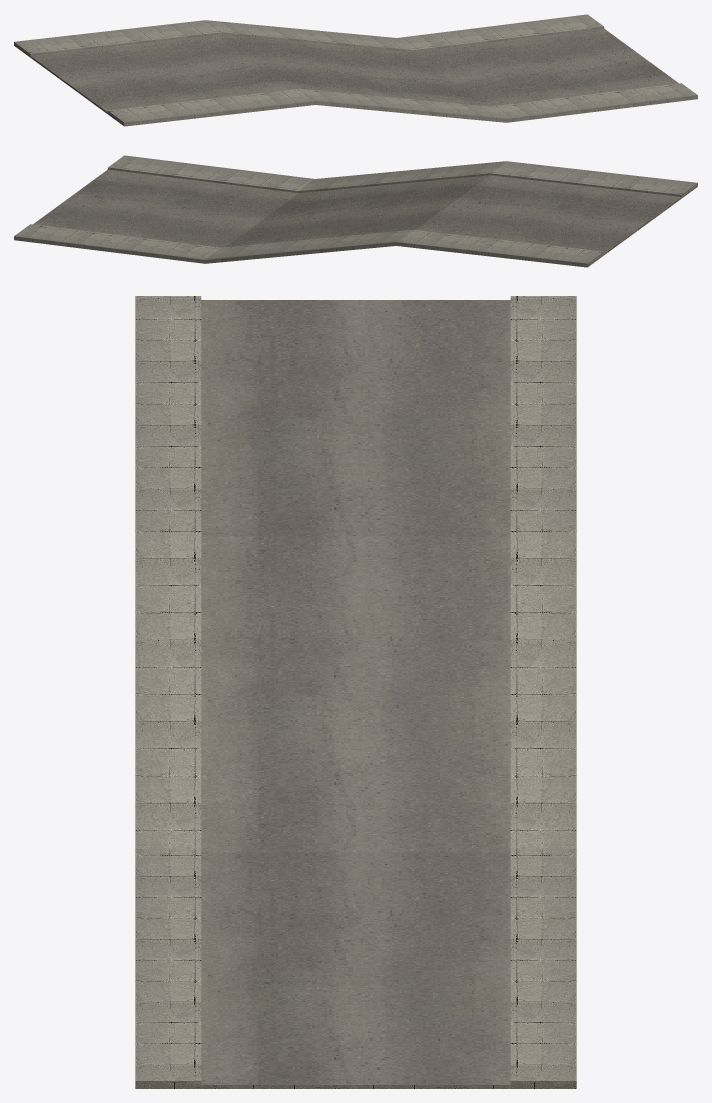
File: road_3_slope.glb
3 views of the same model, one above another, from view 1: azimuth 30°, elevation 25°; view 2: azimuth 150°, elevation 25°; view 3: azimuth 270°, elevation 25° (orthographic). The views are drawn at different scales.
Parts seen in each view (by area): view 1: road_3_slope; view 2: road_3_slope; view 3: road_3_slope.
Boxes of the visible parts, x1,y1,x2,y2 form: road_3_slope: (14,14,697,126); road_3_slope: (14,155,697,267); road_3_slope: (135,296,576,1088).
Bounding box in the file's own units: 48 × 9.32 × 16.
Materials: 2 (2 with a texture image).
